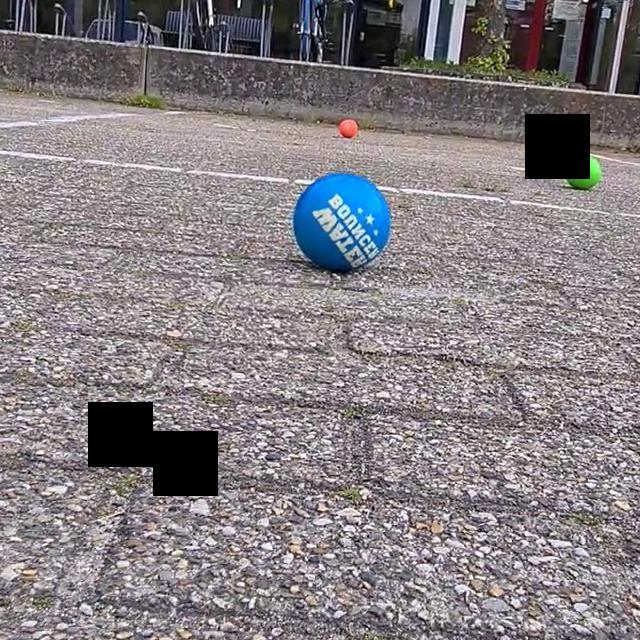ball: (562, 153, 604, 191), (338, 115, 358, 141)
